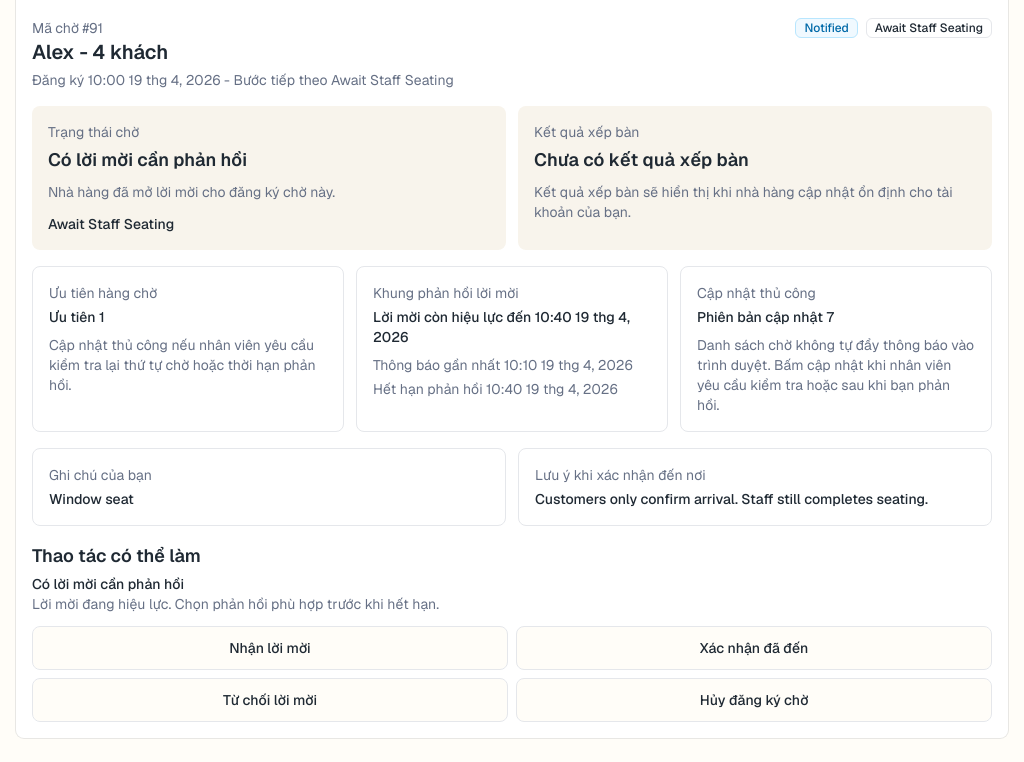
Scenario: WaitingListPage › refetches the list and detail when an owner action hits a stale row version
(page scrolled)
Step 1. Click the button "Nhận lời mời" → [270, 648], box [32, 626, 508, 670]
(page scrolled)
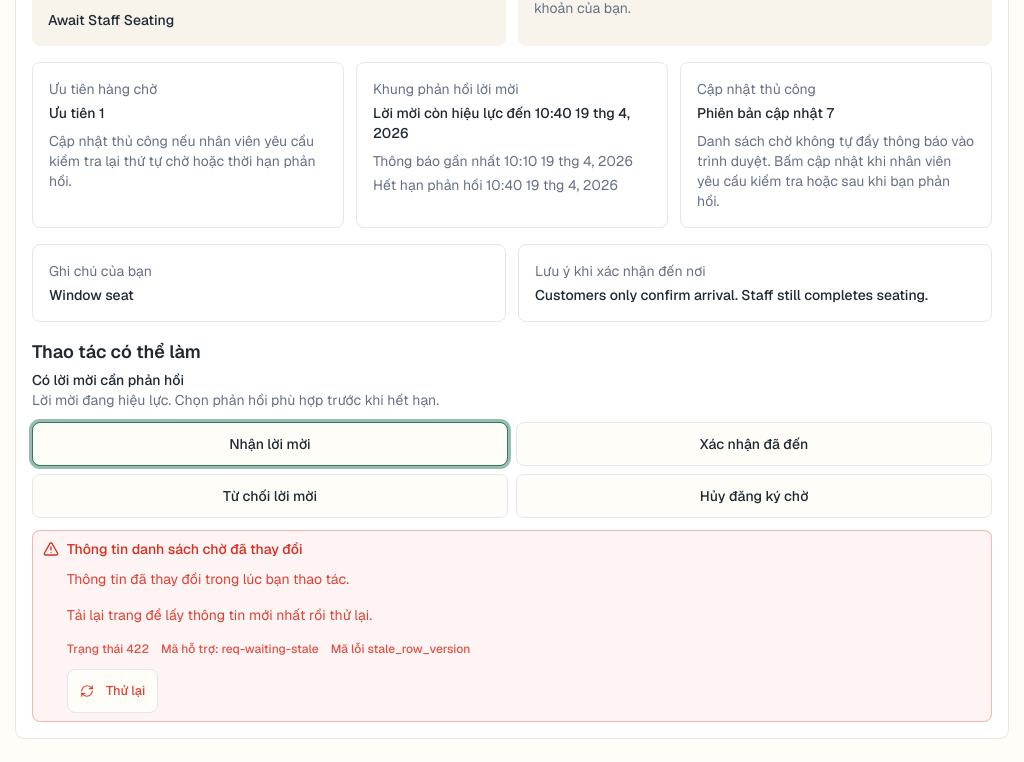
Expected: the text "Thông tin danh sách chờ đã thay đổi" is shown, [67, 540, 303, 558]
Expected: the text "Thông tin đã thay đổi trong lúc bạn thao tác." is shown, [67, 570, 349, 588]
